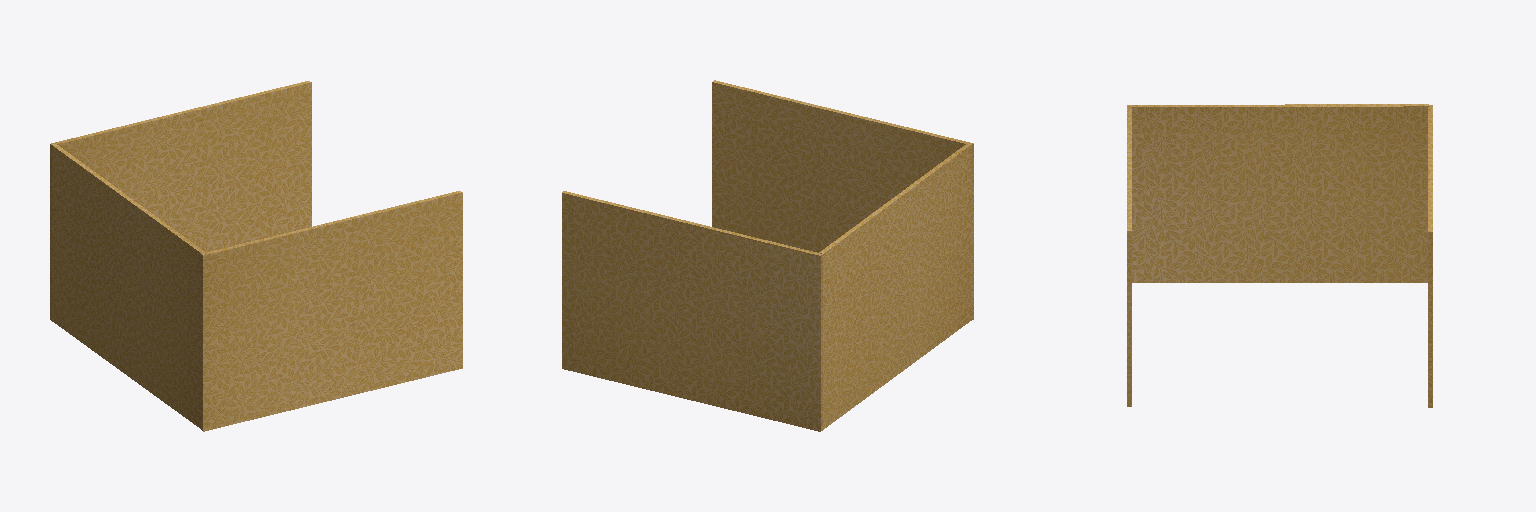
The picture shows the model from 3 angles: view 1: azimuth 30°, elevation 25°; view 2: azimuth 150°, elevation 25°; view 3: azimuth 270°, elevation 25°; orthographic projection.
Visible parts, largest first — view 1: Cube.002_Cube.003; view 2: Cube.002_Cube.003; view 3: Cube.002_Cube.003.
Boxes of the visible parts, x1=… form: Cube.002_Cube.003: x1=50, y1=81, x2=462, y2=431; Cube.002_Cube.003: x1=562, y1=80, x2=973, y2=431; Cube.002_Cube.003: x1=1127, y1=104, x2=1432, y2=407.
Bounding box in the file's own units: 5.92 × 3.85 × 6.06.
Materials: 1 (1 with a texture image).